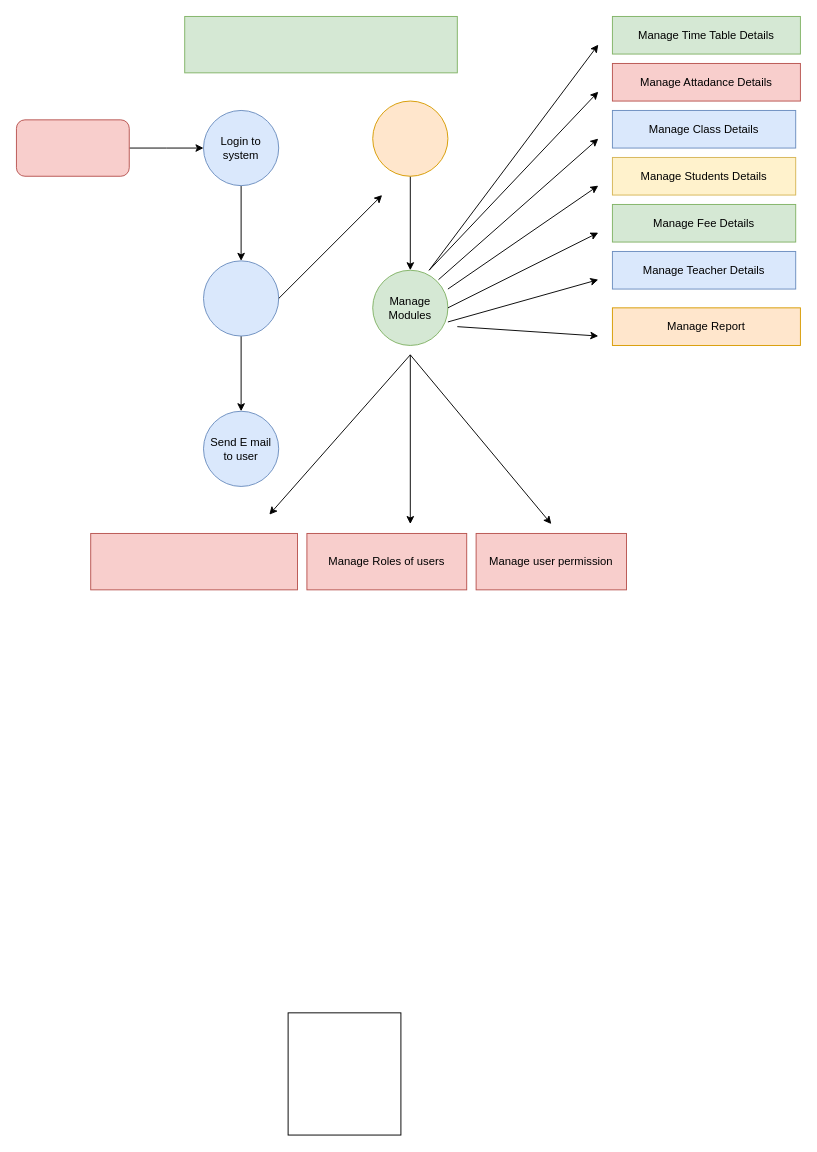
The diagram is 817 pixels wide and 1152 high, and some of its shapes have lost their labels. The centre of each missing label's shape, as x and y in pixels:
Admin: point (72, 147)
Check Credentials: point (241, 298)
Check Roles of access: point (410, 138)
Manage System: point (194, 561)
student information system: point (320, 44)
